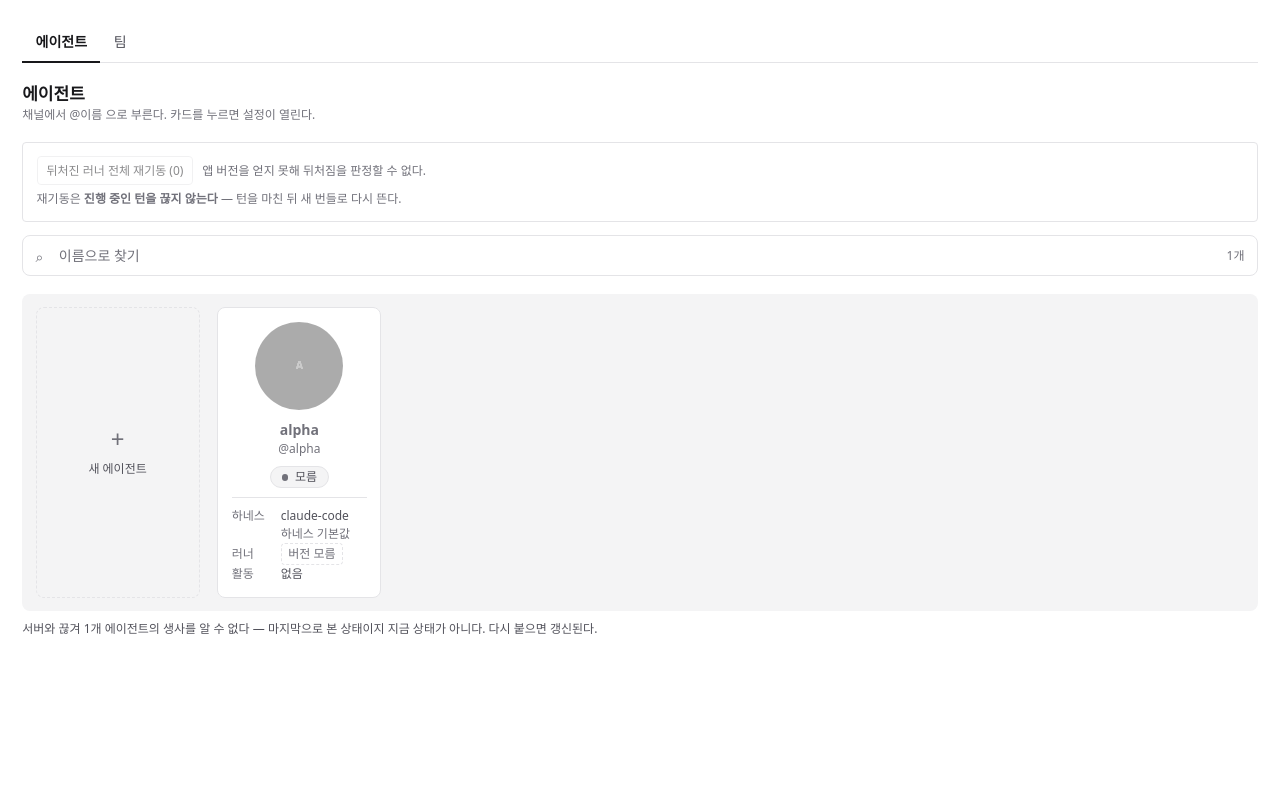
Test: AgentsSettings — 러너 실행·중지 토글(#427, #493) › 중지가 걸려 있으면 같은 자리가 실행 버튼이 되고, 누르면 undoAgentStopRequest 를 부른다
What coordinates should you click on to do the following:
click the button "A alpha @alpha"
I would click on:
 (299, 390)
Its box is [232,322,367,458].
(page scrolled)
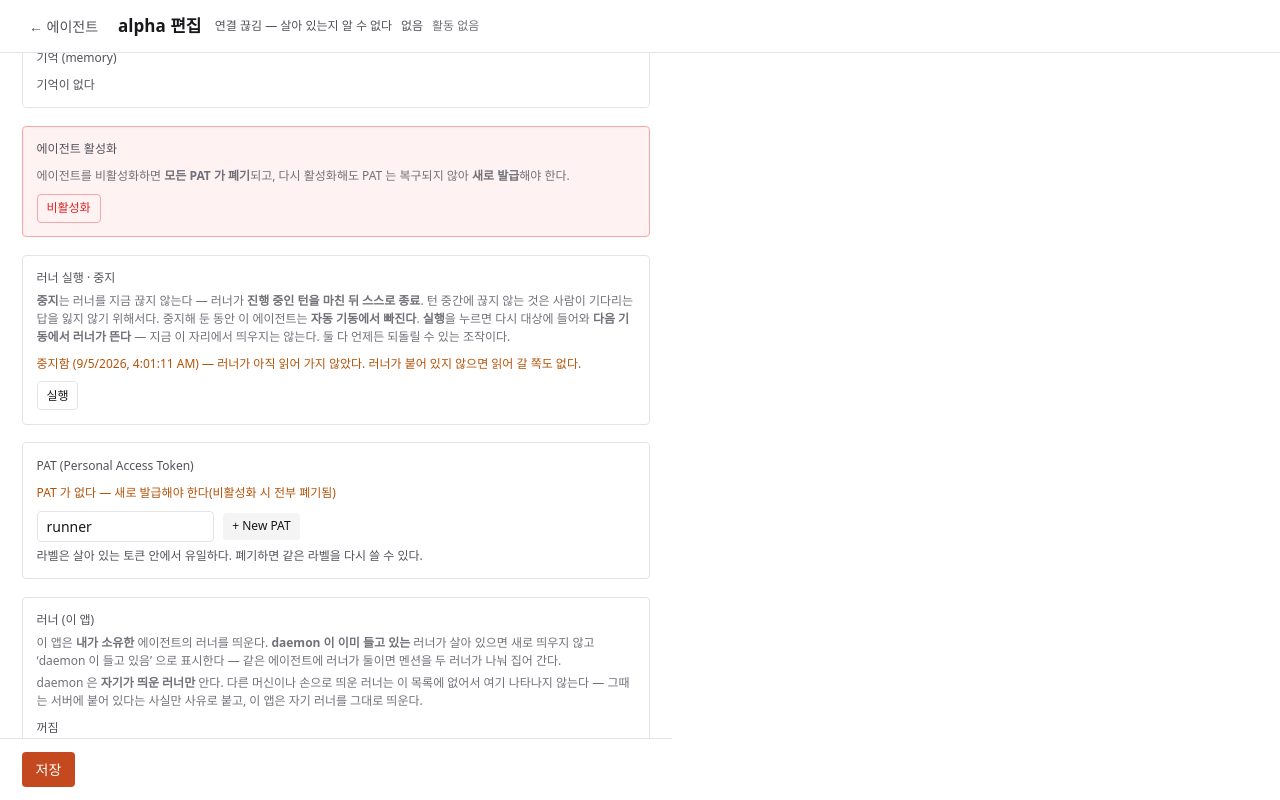
Now the button with aria-label "러너 실행" is shown
What coordinates should you click on to do the following:
click the button with aria-label "러너 실행"
I would click on:
 (58, 396)
Its box is [37,381,78,410].
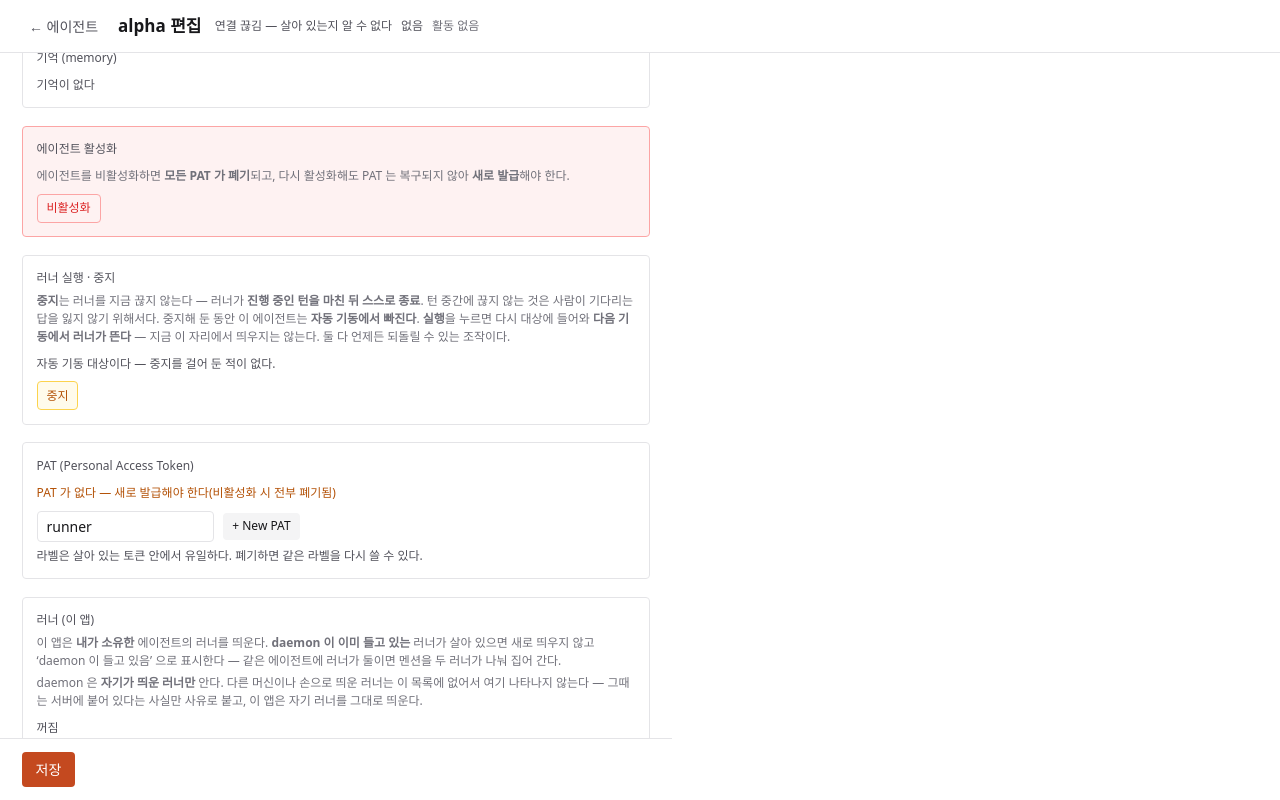
Now the text "자동 기동 대상이다 — 중지를 걸어 둔 적이 없다." is shown, box [37,354,276,372]
Now the button with aria-label "러너 중지" is shown, box [37,381,78,410]
